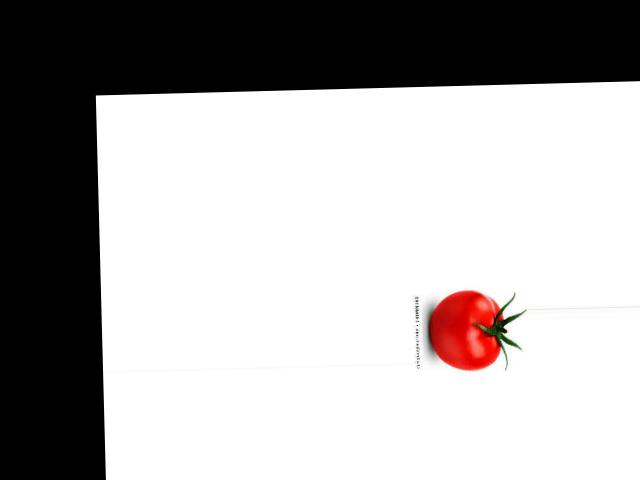tomato: (429, 289, 504, 370)
